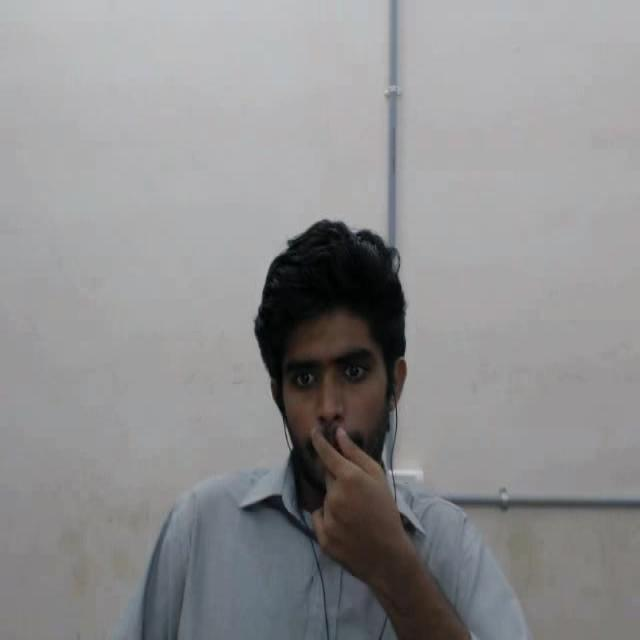Bored: (232, 199, 443, 543)
